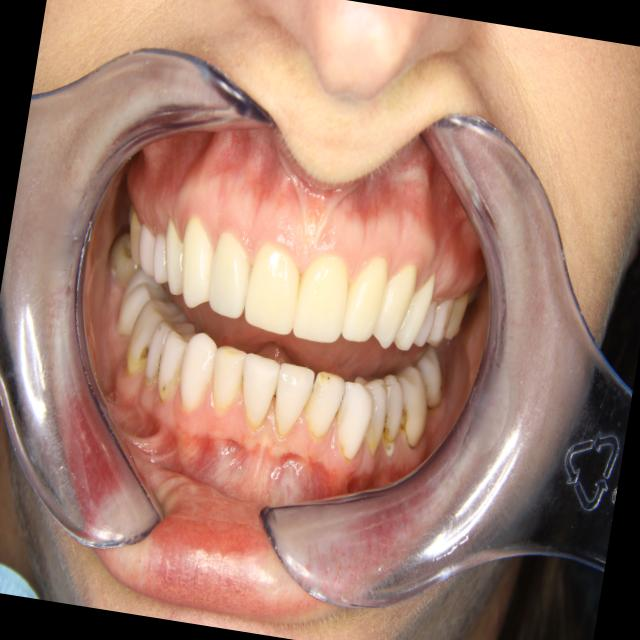tooth: (287, 238, 359, 352), (235, 232, 309, 342), (121, 291, 193, 387), (169, 207, 228, 316), (200, 227, 261, 325), (336, 248, 393, 351), (367, 253, 421, 356), (111, 260, 176, 345), (384, 359, 440, 453), (232, 345, 287, 437), (266, 357, 319, 451), (173, 326, 224, 422), (391, 262, 439, 361), (328, 375, 379, 465), (202, 339, 253, 424), (299, 364, 351, 447), (153, 211, 199, 302), (153, 322, 197, 409), (353, 373, 394, 466), (371, 368, 411, 461), (404, 339, 452, 413), (140, 313, 181, 391), (103, 224, 150, 290), (130, 217, 166, 283), (423, 287, 460, 351), (121, 202, 154, 272), (144, 226, 180, 288), (413, 294, 443, 353), (445, 283, 473, 344)
